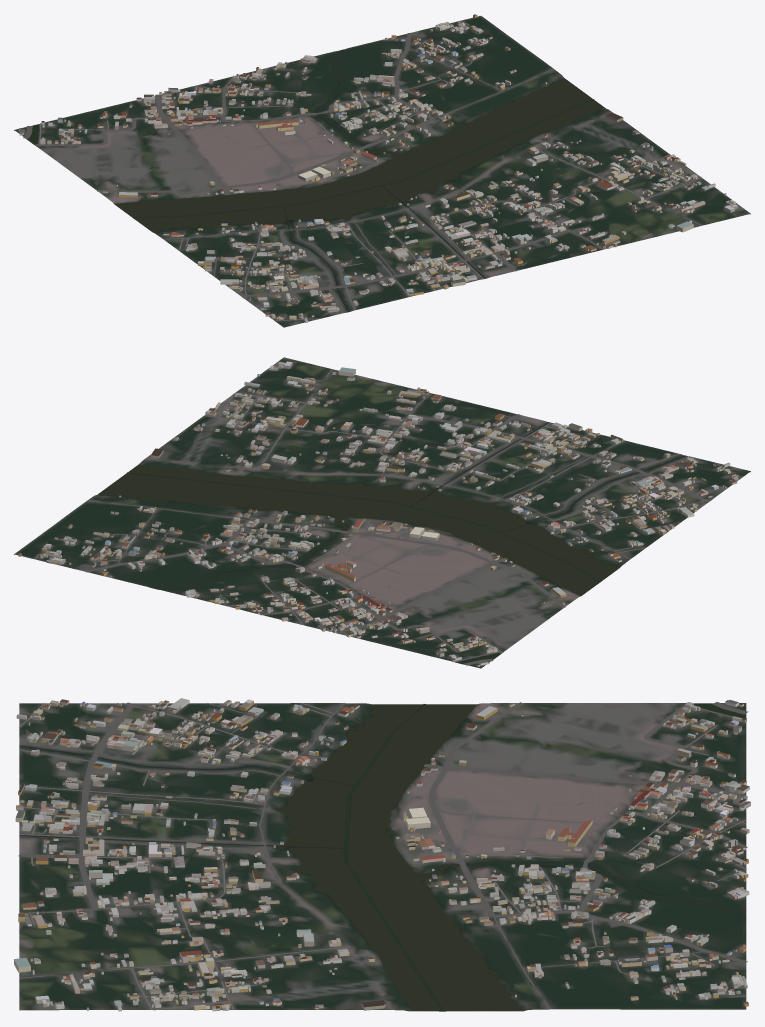
3 renders of one model, top to bottom at view 1: azimuth 30°, elevation 25°; view 2: azimuth 150°, elevation 25°; view 3: azimuth 270°, elevation 25°, orthographic. The views are drawn at different scales.
Visible parts, largest first — view 1: ground, buildings, water, roads; view 2: ground, buildings, water, roads; view 3: ground, buildings, water, roads.
Part boxes in pixels (x1,y1,x2,y2): ground: [14, 16, 750, 327]; buildings: [19, 14, 737, 322]; water: [27, 49, 604, 311]; roads: [23, 20, 737, 320]; ground: [14, 357, 750, 668]; buildings: [18, 361, 738, 666]; water: [99, 422, 686, 664]; roads: [35, 368, 741, 665]; ground: [19, 703, 746, 1011]; buildings: [14, 698, 750, 1011]; water: [19, 703, 745, 1011]; roads: [18, 702, 748, 1010].
Bounding box in the file's own units: 1415 × 21.91 × 1420.
